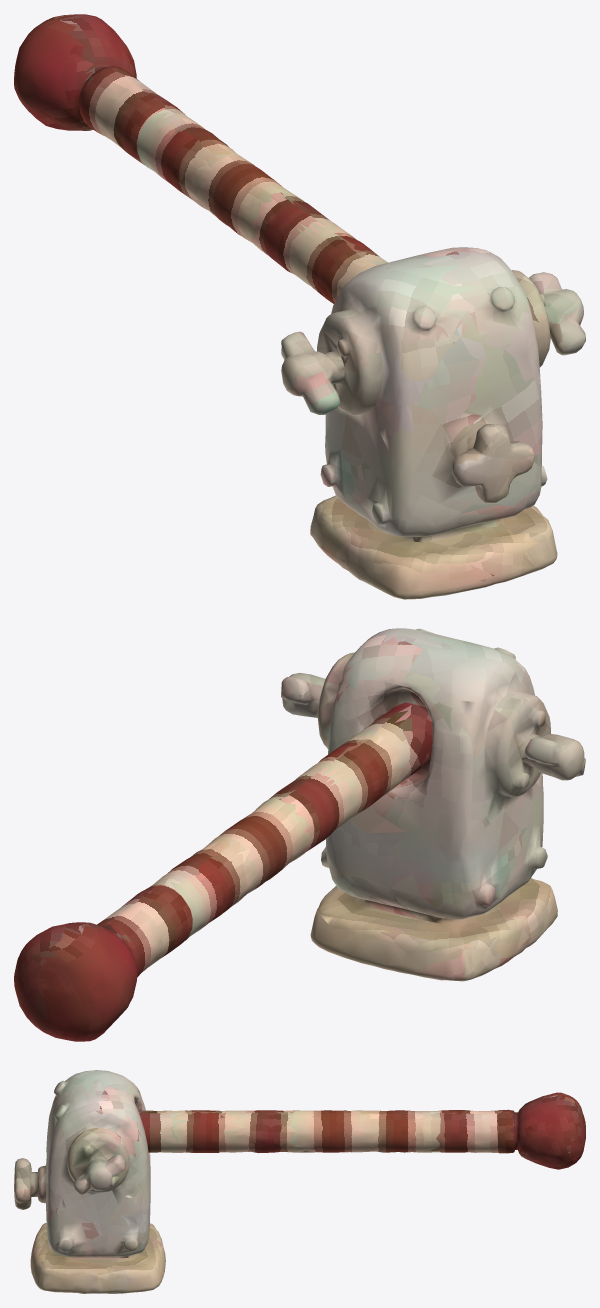
Rendered from JP_사물_s2_sm_gate_door.glb.
3 renders of one model, top to bottom at view 1: azimuth 30°, elevation 25°; view 2: azimuth 150°, elevation 25°; view 3: azimuth 270°, elevation 25°, orthographic. The views are drawn at different scales.
Parts seen in each view (by area): view 1: tripo_node_67965c4c-6219-446a-9802-4279c2ea3c06; view 2: tripo_node_67965c4c-6219-446a-9802-4279c2ea3c06; view 3: tripo_node_67965c4c-6219-446a-9802-4279c2ea3c06.
Part boxes in pixels (x1,y1,x2,y2): tripo_node_67965c4c-6219-446a-9802-4279c2ea3c06: (14,14,585,599); tripo_node_67965c4c-6219-446a-9802-4279c2ea3c06: (14,628,585,1041); tripo_node_67965c4c-6219-446a-9802-4279c2ea3c06: (14,1070,585,1293).
Bounding box in the file's own units: 0.3761 × 0.3542 × 1.
Materials: 1 (1 with a texture image).
